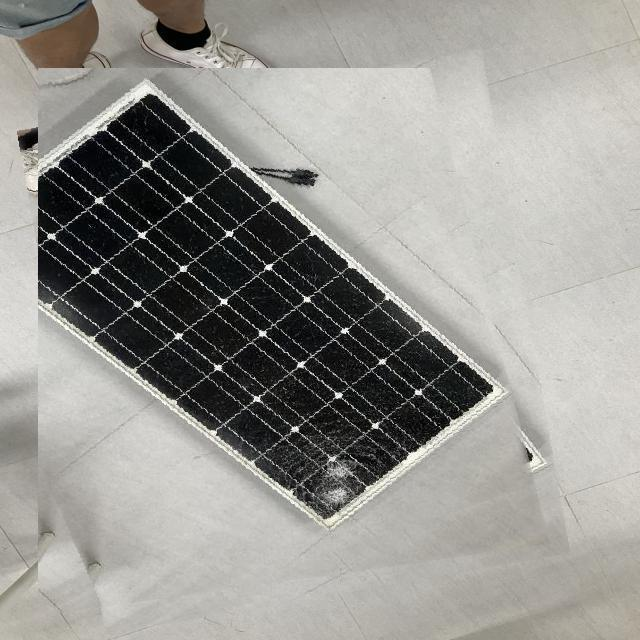Photovoltaic-Panel: (38, 68, 550, 616)
